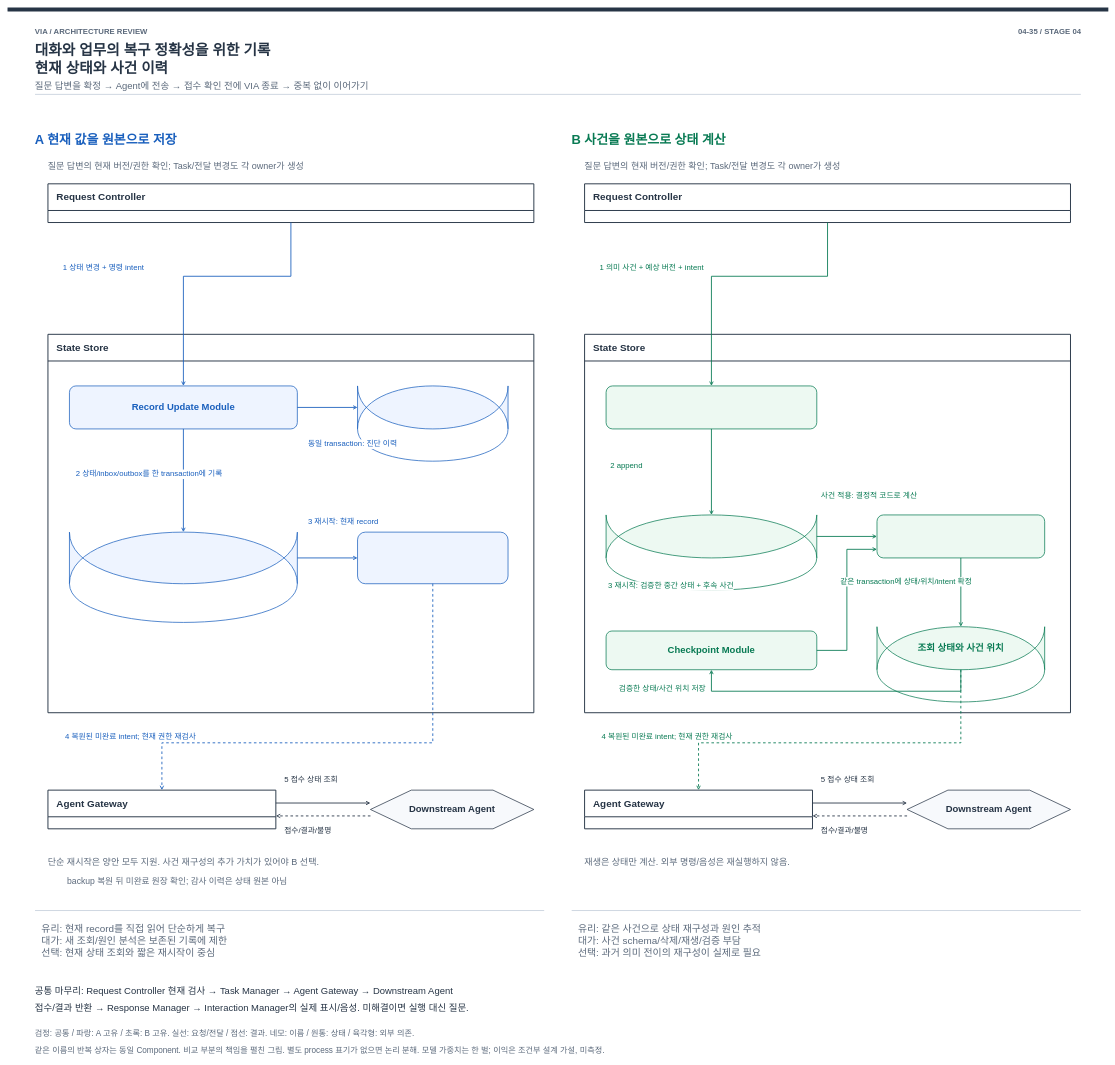
Some shapes in this 1115 by 1065 pixel diagram are drawn without their labels. Each missing label, with the centre of its shape:
Journal Append Module: the point at 711,407
Projection Module: the point at 960,536
Record Load Module: the point at 432,558
감사 기록: the point at 432,407
현재 상태와 미완료 원장: the point at 183,558
확정 사건 원장: the point at 711,536
